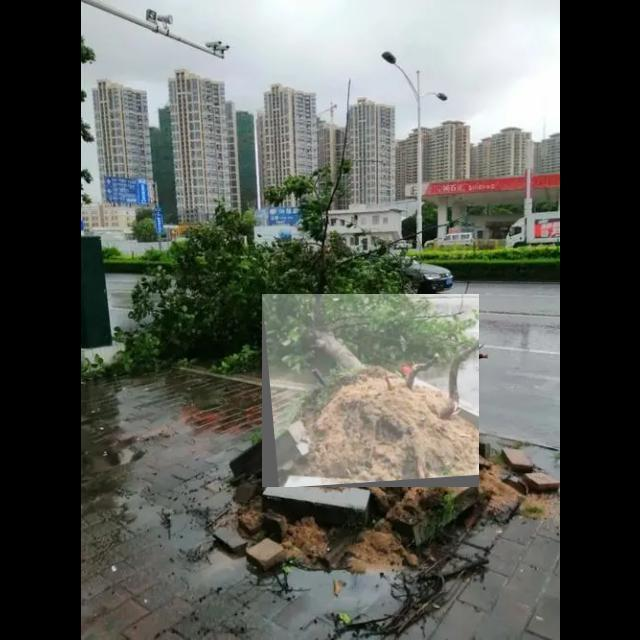fallen_tree: (262, 294, 480, 488)
